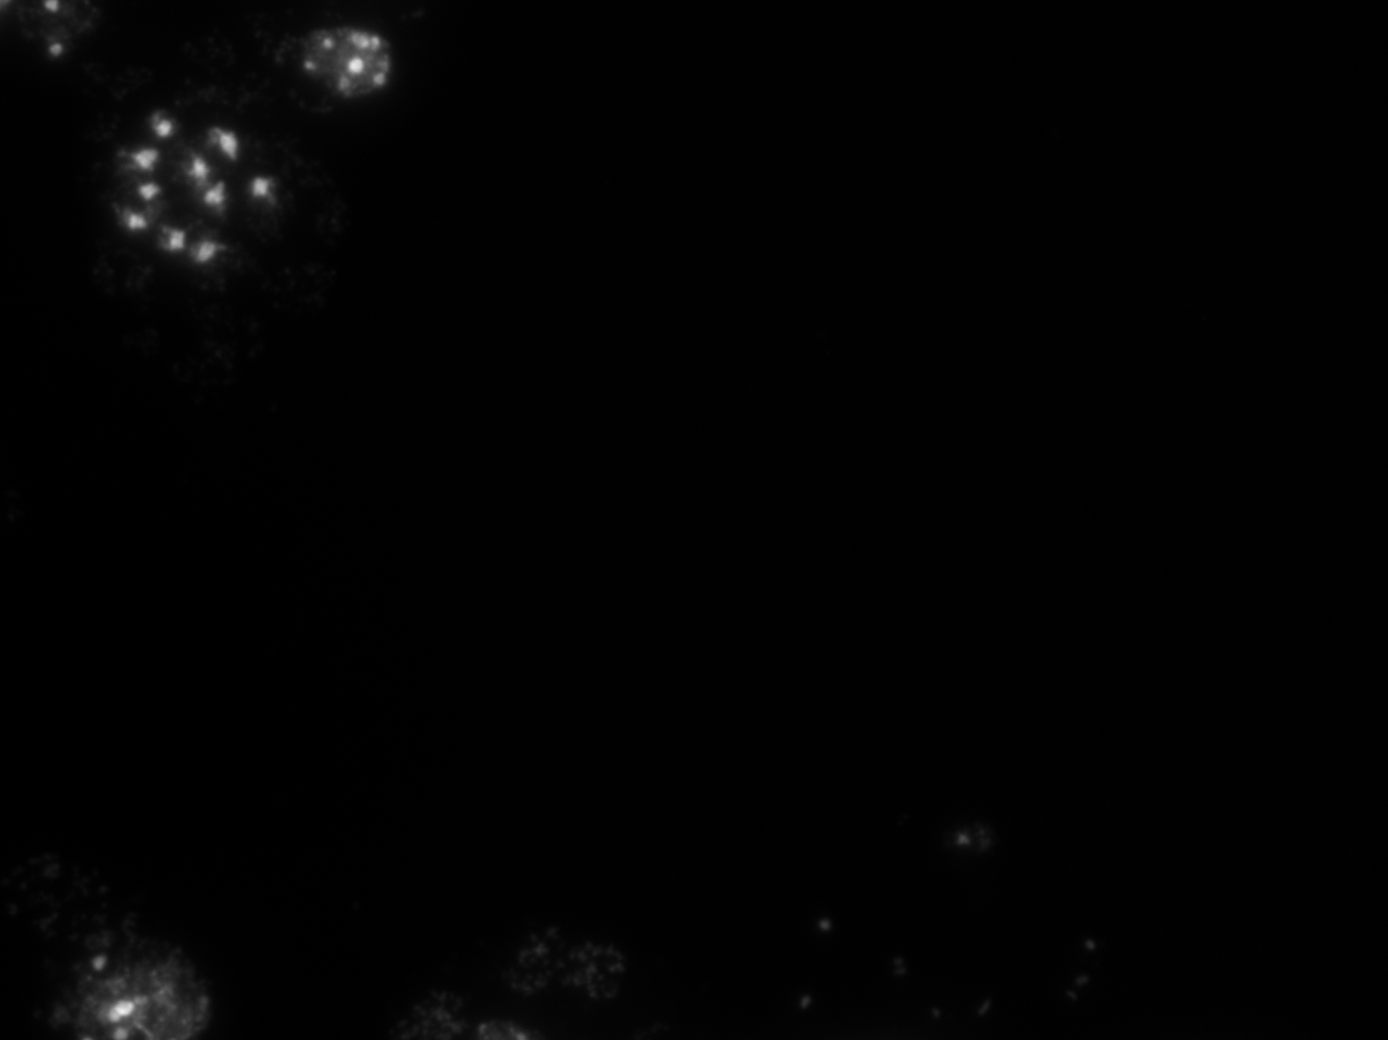Chromosomes: (66, 88, 318, 279)
Others: (306, 913, 711, 1033), (33, 895, 236, 1040), (137, 56, 341, 193), (258, 12, 427, 118)
